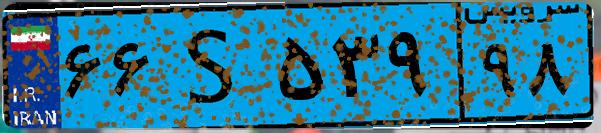3: (330, 28, 385, 110)
5: (270, 28, 330, 110)
6: (57, 26, 110, 100), (110, 28, 158, 98)
8: (525, 38, 570, 115)
9: (385, 28, 445, 110), (475, 38, 525, 113)
S: (158, 12, 270, 120)
